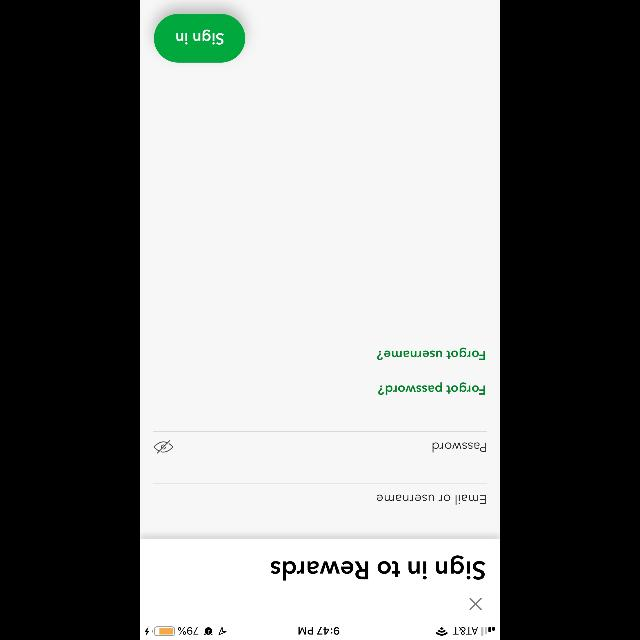icon: (153, 440, 173, 454), (470, 598, 482, 610)
input: (153, 432, 487, 452), (153, 484, 487, 504)
text: (270, 556, 486, 580), (378, 382, 484, 396), (377, 348, 485, 360), (376, 494, 486, 504), (432, 442, 486, 452)
textbutton: (154, 13, 246, 62)
uppertaskbar: (140, 626, 500, 640)
